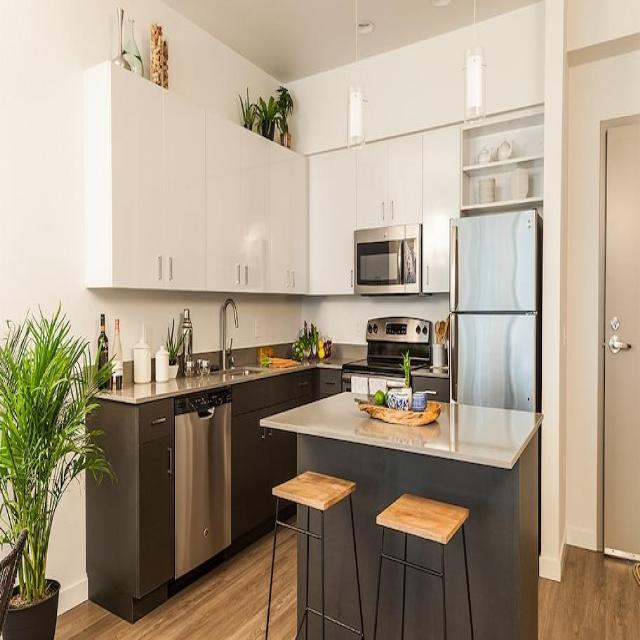dishwasher: (162, 379, 246, 593)
